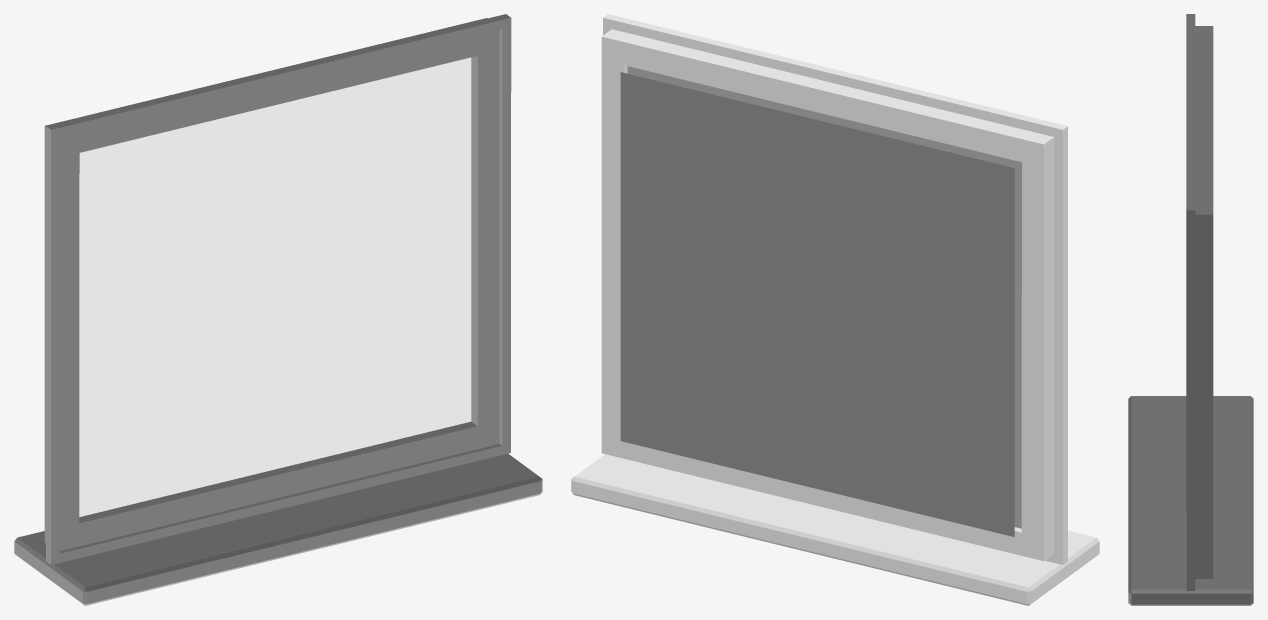
The model's file is Window_b42fe3d3.obj.
3 renders of one model, left to right at view 1: azimuth 30°, elevation 25°; view 2: azimuth 150°, elevation 25°; view 3: azimuth 270°, elevation 25°, orthographic. The views are drawn at different scales.
Visible parts, largest first — view 1: WindowPane_95d85824, WindowFrame1_45026f13; view 2: QuadDecalSpawnPlane_0c2ffddd, WindowFrame1_45026f13, WindowPane_95d85824; view 3: WindowFrame1_45026f13.
Part boxes in pixels (x1,y1,x2,y2): WindowPane_95d85824: (79,57,471,516); WindowFrame1_45026f13: (14,14,542,605); QuadDecalSpawnPlane_0c2ffddd: (620,72,1014,536); WindowFrame1_45026f13: (571,14,1099,605); WindowPane_95d85824: (627,66,1021,528); WindowFrame1_45026f13: (1128,14,1253,605).
Bounding box in the file's own units: 1.04 × 0.9801 × 0.28.
